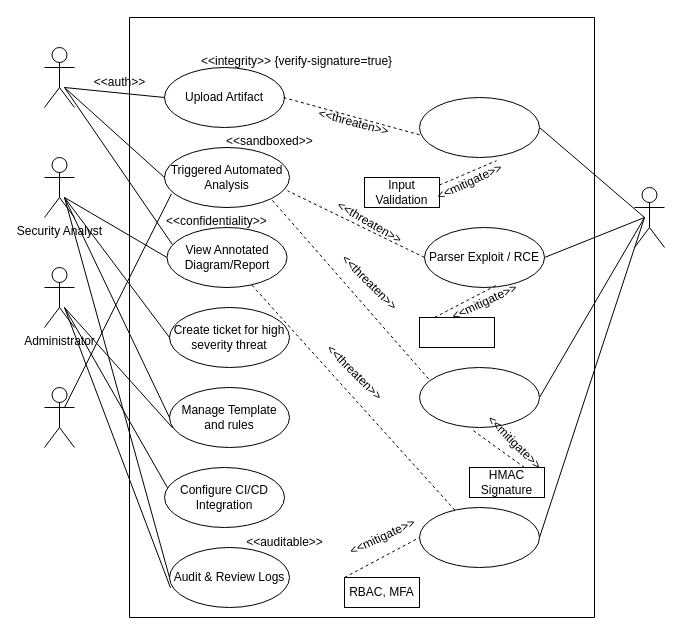
Some shapes in this 689 by 635 pixel diagram are drawn without their labels. The box of each missing label's shape, as (x1, y1, x2, y2) in pixels:
Attacker: (634, 186, 664, 248)
CI/CD Pipeline: (44, 386, 74, 448)
Developer: (44, 46, 74, 108)
Exfiltrate Reports: (418, 506, 540, 568)
Forged Webhook / Replay Attack: (418, 366, 540, 428)
Poisoned Artifact Upload: (418, 96, 540, 158)
Run parser in container: (418, 316, 494, 348)
